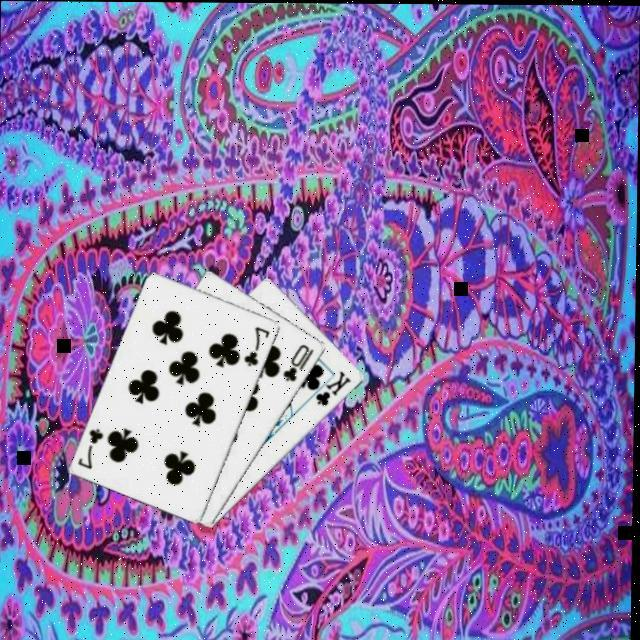10C: (282, 338, 319, 382)
7C: (77, 422, 110, 469), (243, 320, 276, 366)
KC: (307, 365, 356, 407)
